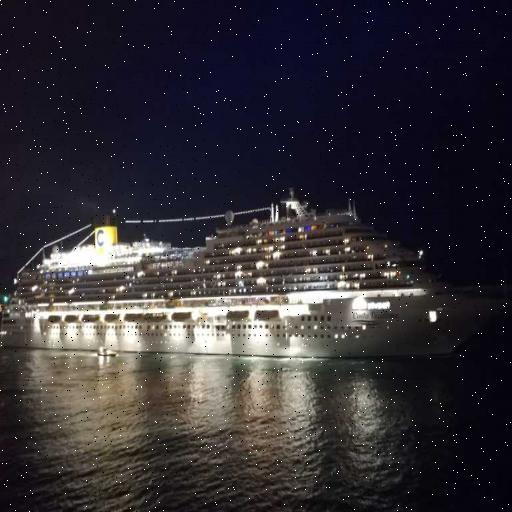cruises: (1, 183, 512, 362)
